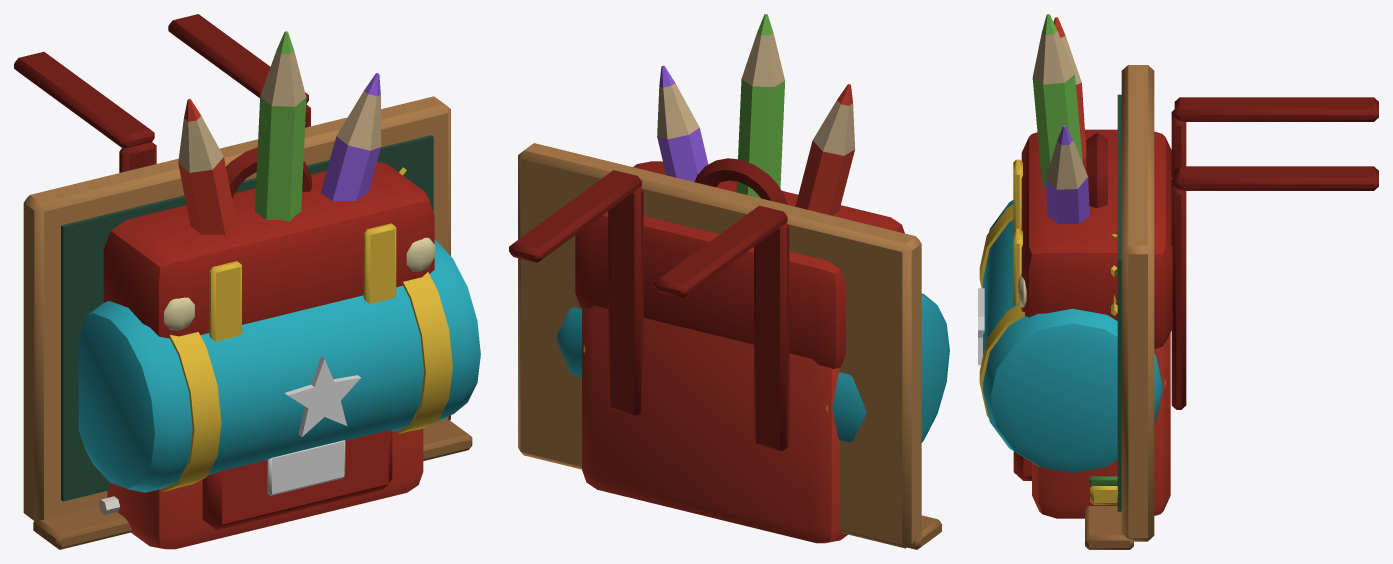
Rendered from 2026-11-28_dos.glb.
The picture shows the model from 3 angles, left to right: view 1: azimuth 30°, elevation 25°; view 2: azimuth 150°, elevation 25°; view 3: azimuth 270°, elevation 25°; orthographic projection. The views are drawn at different scales.
Visible parts, largest first — view 1: dos_trousse_geante, dos_cartable_ecolier, dos_tableau_noir; view 2: dos_cartable_ecolier, dos_tableau_noir, dos_trousse_geante; view 3: dos_cartable_ecolier, dos_trousse_geante, dos_tableau_noir.
Boxes of the visible parts, left/top/right/bottom form: dos_trousse_geante: left=78, top=31, right=480, bottom=492; dos_cartable_ecolier: left=14, top=14, right=435, bottom=549; dos_tableau_noir: left=23, top=96, right=472, bottom=549; dos_cartable_ecolier: left=509, top=158, right=904, bottom=543; dos_tableau_noir: left=518, top=143, right=941, bottom=549; dos_trousse_geante: left=557, top=14, right=949, bottom=442; dos_cartable_ecolier: left=1013, top=97, right=1378, bottom=518; dos_trousse_geante: left=978, top=14, right=1165, bottom=472; dos_tableau_noir: left=1085, top=65, right=1154, bottom=549.
Size of the model in its own units: 0.54 by 0.6102 by 0.491.
